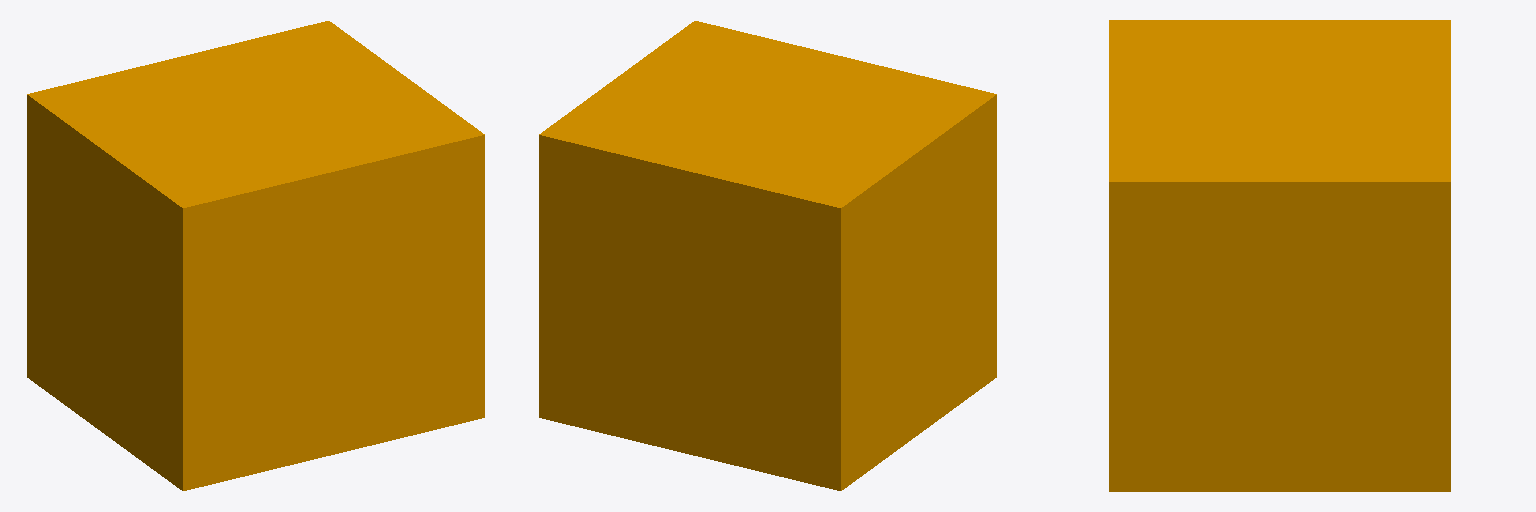
robot.urdf — 2x2:
<?xml version='1.0' encoding='UTF-8'?>
<robot name="2x2">
  <link name="base_link">
    <inertial>
      <origin xyz="0.0 0.0 0.0" rpy="0.0 0.0 0.0"/>
      <mass value="0.01"/>
      <inertia ixx="0.1" ixy="0.0" ixz="0.0" iyy="0.1" iyz="0.0" izz="0.1"/>
    </inertial>
    <visual>
      <geometry>
        <box size="0.019 0.017 0.017"/>
      </geometry>
      <material name=""/>
      <origin xyz="0.0 0.0 0.0" rpy="0.0 0.0 0.0"/>
    </visual>
    <collision>
      <geometry>
        <box size="0.019 0.017 0.017"/>
      </geometry>
      <origin xyz="0.0 0.0 0.0" rpy="0.0 0.0 0.0"/>
    </collision>
  </link>
  <material name="">
    <color rgba="0.633 0.3   0.273 1.   "/>
  </material>
  <contact>
    <lateral_friction value="1.0"/>
    <rolling_friction value="0.0"/>
    <contact_cfm value="0.0"/>
    <contact_erp value="1.0"/>
  </contact>
</robot>

--- Render facts (derived) ---
Views: 3 orthographic renders of the robot side by side, from view 1: azimuth 30°, elevation 25°; view 2: azimuth 150°, elevation 25°; view 3: azimuth 270°, elevation 25°.
Model 2x2 with 1 links and 0 joints (none), rooted at base_link, posed all joints at 0.
Links seen in each view (by area): view 1: base_link; view 2: base_link; view 3: base_link.
Boxes of the visible links, <box> form: base_link: <box>27,21,484,490</box>; base_link: <box>539,21,996,490</box>; base_link: <box>1109,20,1450,491</box>.
Size in the robot's own frame: 0.019 by 0.017 by 0.017 metres.
Geometry: primitives only (box / cylinder / sphere), no mesh files.